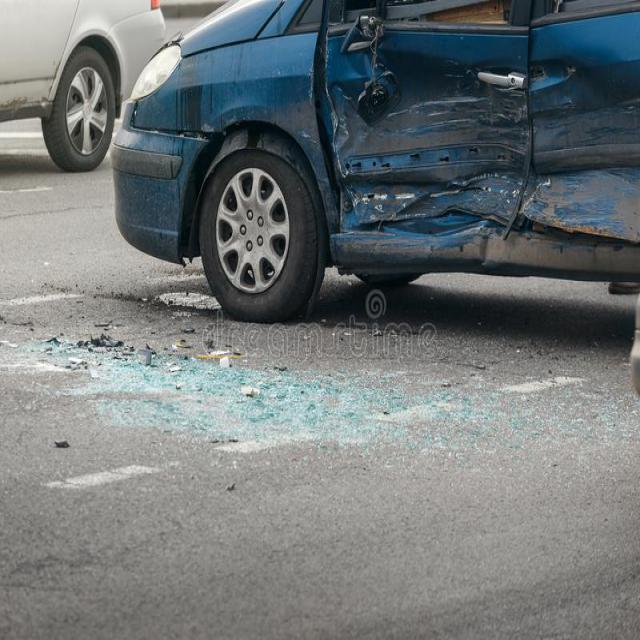doorouter-dent: (310, 0, 524, 286), (492, 1, 639, 285)
